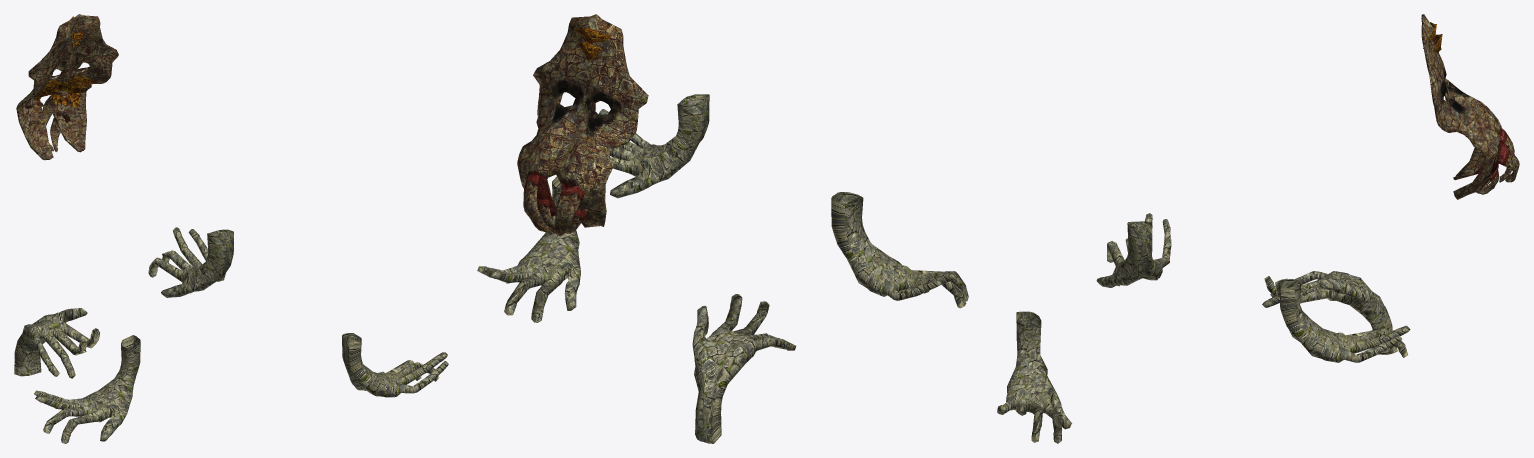
Rendered from Ktc.FBX.
3 renders of one model, left to right at view 1: azimuth 30°, elevation 25°; view 2: azimuth 150°, elevation 25°; view 3: azimuth 270°, elevation 25°, orthographic. The views are drawn at different scales.
Parts seen in each view (by area): view 1: Object290, My Hand005, My Hand004, My Hand003, My Hand006; view 2: Object290, My Hand004, My Hand005, My Hand006, My Hand003; view 3: Object290, My Hand006, My Hand003, My Hand004, My Hand005.
Part boxes in pixels (bbox=[...]): Object290: bbox=[16, 14, 118, 160]; My Hand005: bbox=[34, 335, 140, 443]; My Hand004: bbox=[14, 308, 99, 378]; My Hand003: bbox=[148, 227, 233, 297]; My Hand006: bbox=[342, 333, 448, 397]; Object290: bbox=[517, 14, 648, 236]; My Hand004: bbox=[692, 294, 796, 443]; My Hand005: bbox=[831, 192, 968, 308]; My Hand006: bbox=[598, 94, 709, 198]; My Hand003: bbox=[477, 176, 580, 322]; Object290: bbox=[1421, 14, 1519, 199]; My Hand006: bbox=[997, 311, 1071, 443]; My Hand003: bbox=[1279, 278, 1410, 362]; My Hand004: bbox=[1262, 271, 1392, 354]; My Hand005: bbox=[1096, 213, 1171, 287].
Size of the model in its own units: 28.62 by 25.51 by 32.25.
